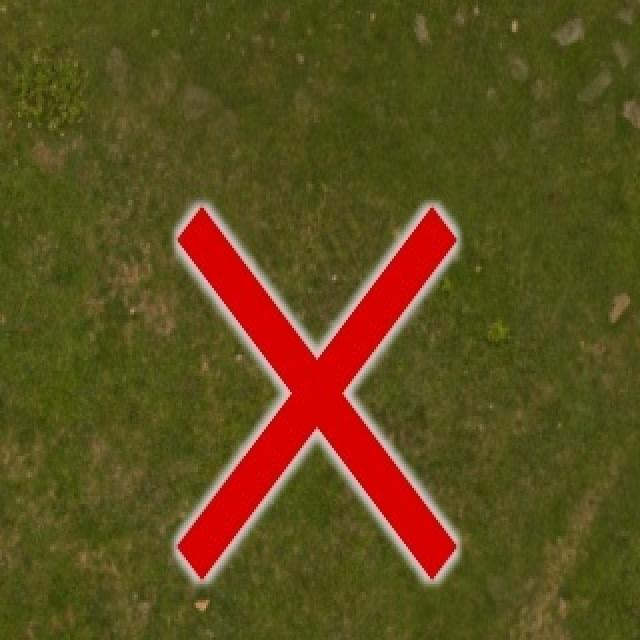x_marker: (177, 207, 455, 577)
